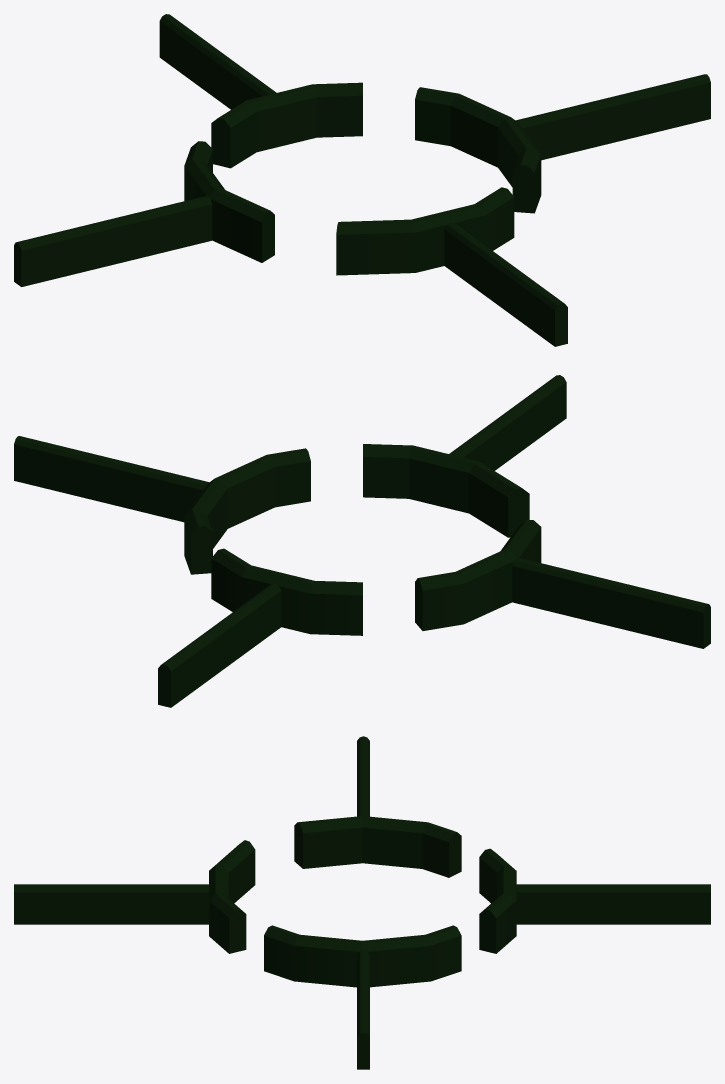
File: Hedge Boundaries.FBX
3 renders of one model, top to bottom at view 1: azimuth 30°, elevation 25°; view 2: azimuth 150°, elevation 25°; view 3: azimuth 270°, elevation 25°, orthographic. The views are drawn at different scales.
Visible parts, largest first — view 1: Hedge Middle Boundary, Hedge Boundary 002, Hedge Boundary 1, Hedge Boundary 004, Hedge Boundary 003; view 2: Hedge Middle Boundary, Hedge Boundary 002, Hedge Boundary 1, Hedge Boundary 003, Hedge Boundary 004; view 3: Hedge Middle Boundary, Hedge Boundary 004, Hedge Boundary 003, Hedge Boundary 1, Hedge Boundary 002.
Part boxes in pixels (x1,y1,x2,y2): Hedge Middle Boundary: [184, 82, 541, 275]; Hedge Boundary 002: [14, 196, 212, 286]; Hedge Boundary 1: [515, 74, 710, 160]; Hedge Boundary 004: [444, 222, 567, 346]; Hedge Boundary 003: [159, 14, 276, 109]; Hedge Middle Boundary: [184, 444, 541, 635]; Hedge Boundary 002: [512, 557, 710, 648]; Hedge Boundary 1: [14, 436, 208, 522]; Hedge Boundary 003: [158, 583, 281, 707]; Hedge Boundary 004: [449, 375, 566, 470]; Hedge Middle Boundary: [209, 816, 516, 987]; Hedge Boundary 004: [14, 884, 209, 924]; Hedge Boundary 003: [515, 884, 710, 924]; Hedge Boundary 1: [357, 950, 369, 1069]; Hedge Boundary 002: [357, 736, 369, 816].
Bounding box in the file's own units: 53.37 × 3.5 × 53.02.
